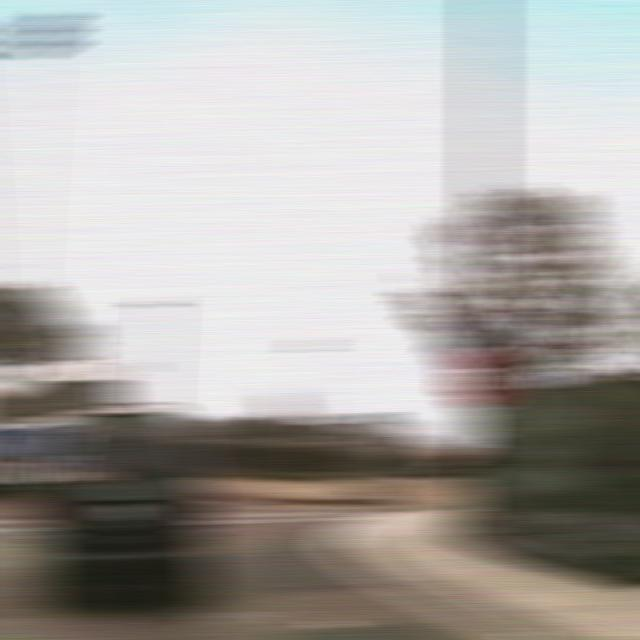stop_sign: (447, 345, 513, 411)
